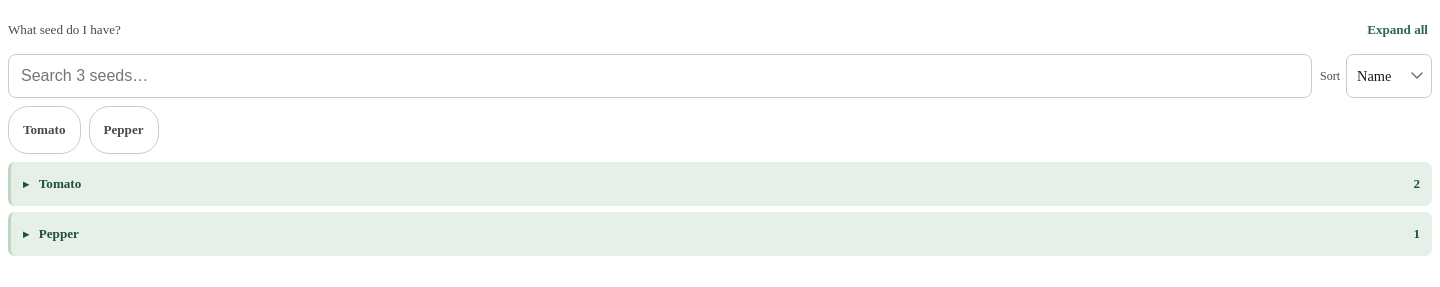
Scenario: My seeds — folding groups › a crop chip opens that crop's group
Click the button "Pepper". click: (124, 130)
box: [88,106,158,154]
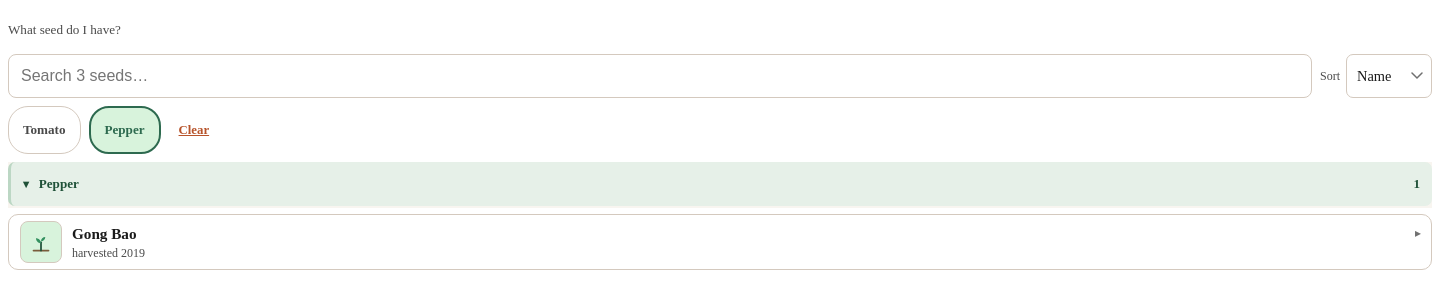
expect the button with test id "facet-group-header" is expanded: met, box [8,162,1432,206]
